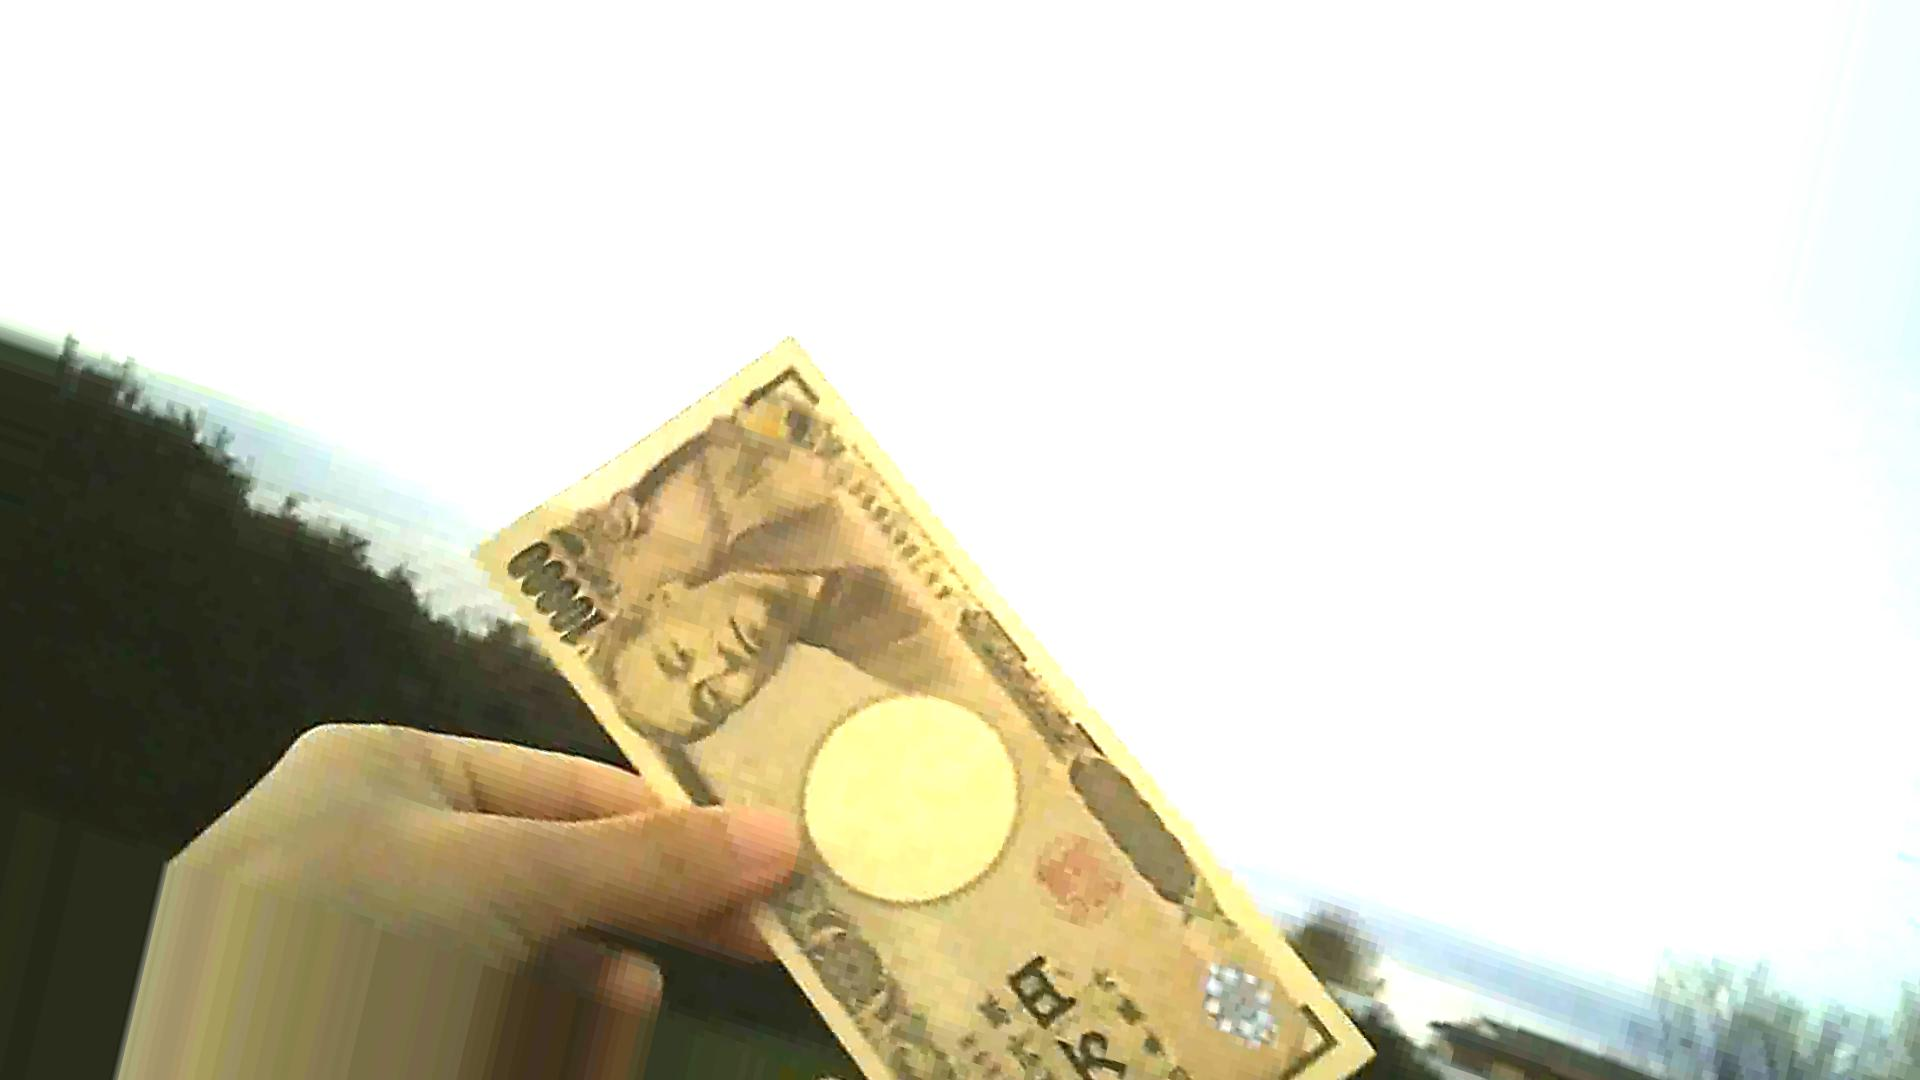10,000 Yen: (487, 343, 1344, 1079)
